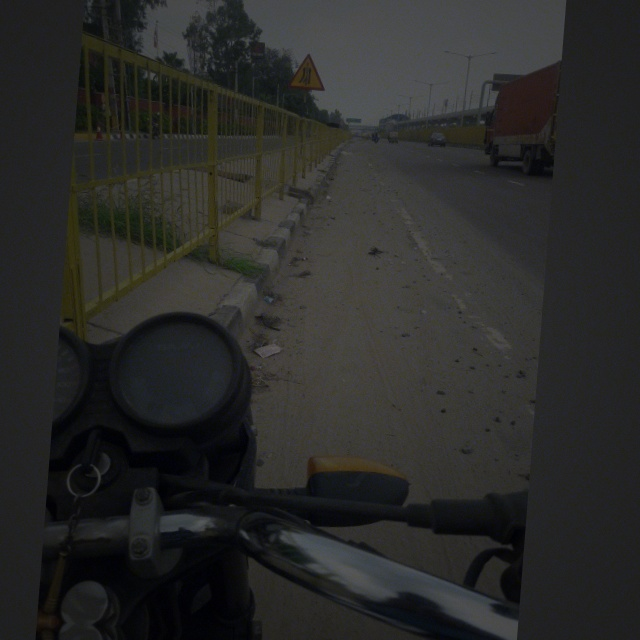Merge_Traffic_Ahead: (285, 45, 335, 98)
